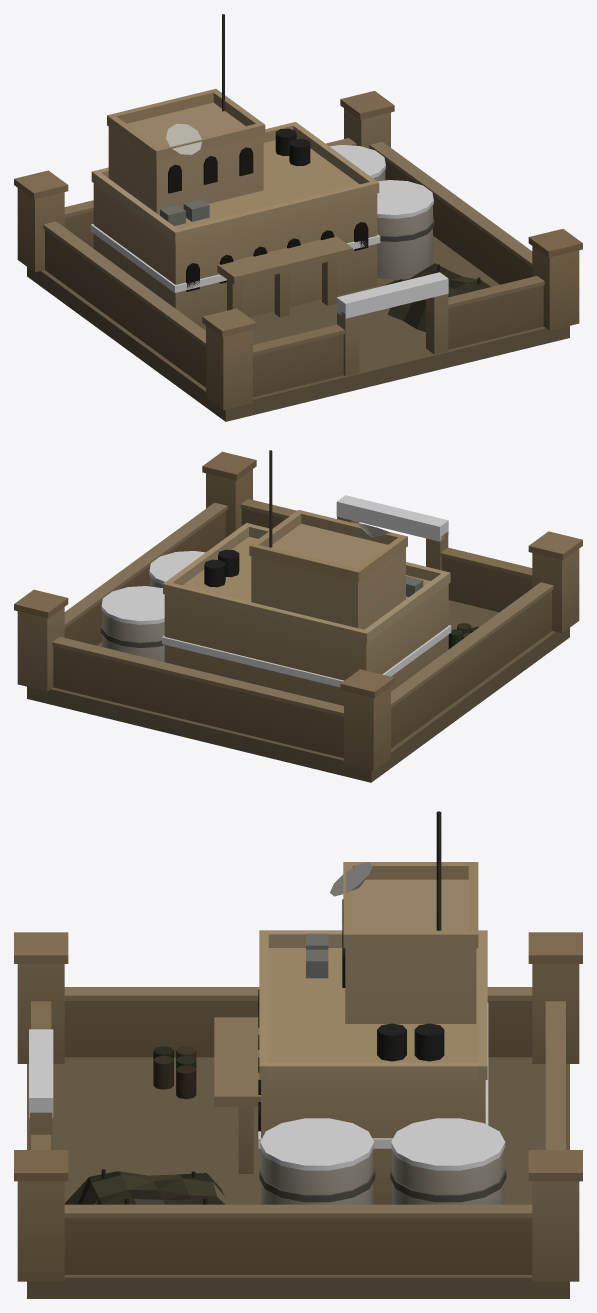
File: m_econ_c5f8decc.glb
3 views of the same model, one above another, from view 1: azimuth 30°, elevation 25°; view 2: azimuth 150°, elevation 25°; view 3: azimuth 270°, elevation 25° (orthographic). The views are drawn at different scales.
Visible parts, largest first — view 1: mesh; view 2: mesh; view 3: mesh.
Part boxes in pixels (x1=…): mesh: x1=14, y1=14, x2=582, y2=421; mesh: x1=14, y1=450, x2=582, y2=782; mesh: x1=14, y1=811, x2=582, y2=1298.
Bounding box in the file's own units: 60.8 × 42 × 60.8.
